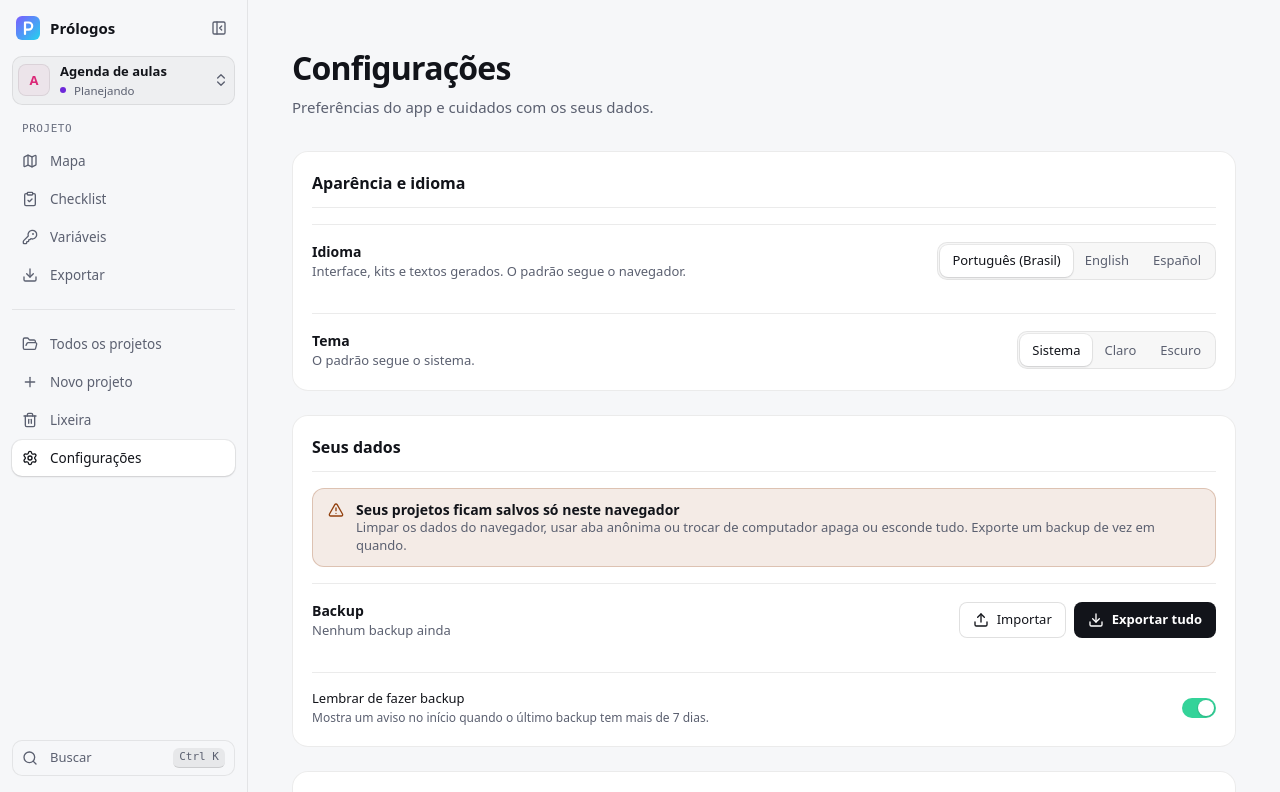
Test case: settings (RN 17, 18) › exports every project as prologos.json and records the backup
The image size is (1280, 792).
Expected: the text "Seus projetos ficam salvos só neste navegador" is shown, x1=356 y1=500 x2=680 y2=518
Step 1. Click the button "Exportar tudo" → (1145, 620), box x1=1074 y1=602 x2=1216 y2=638
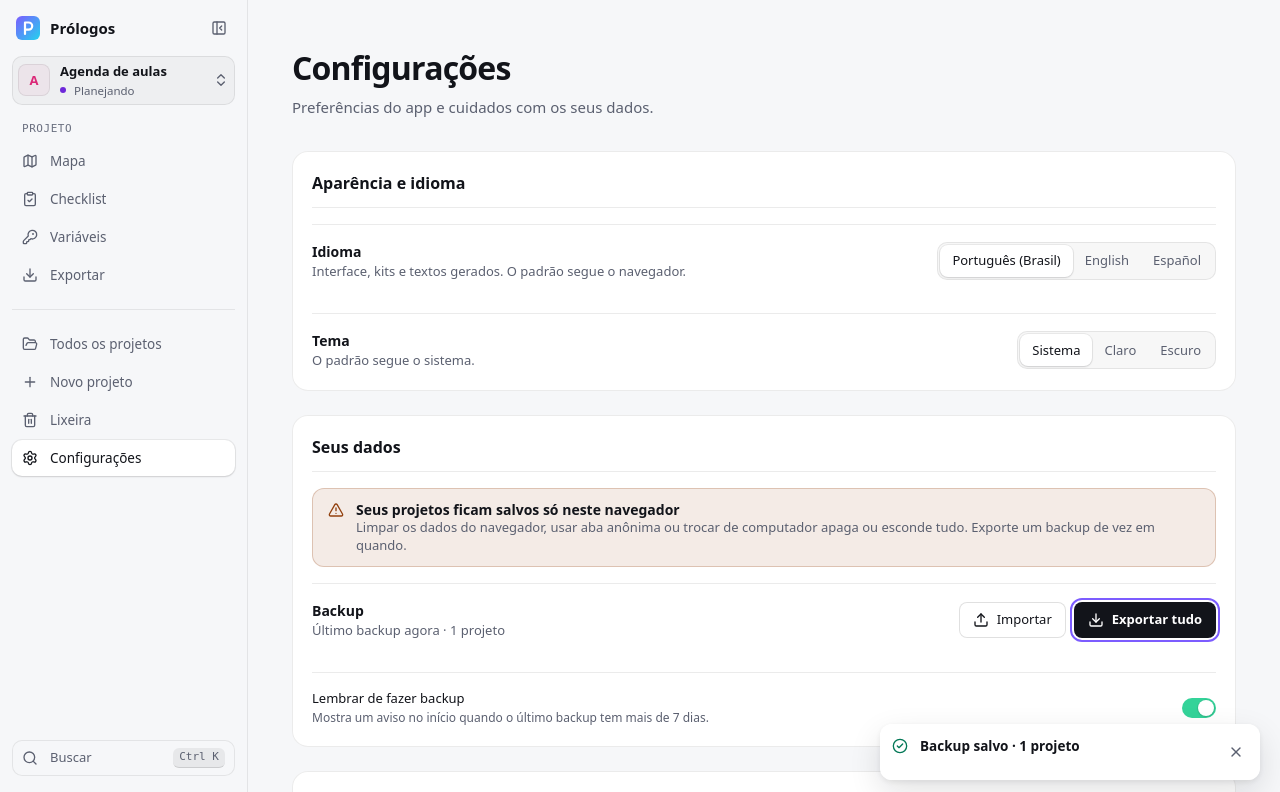
Now the text "Backup salvo · 1 projeto" is shown, box x1=920 y1=737 x2=1080 y2=755
